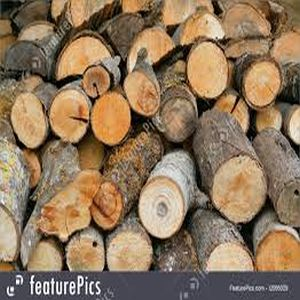log: (208, 150, 268, 223), (136, 176, 183, 239), (186, 40, 234, 100), (47, 85, 91, 141), (89, 90, 131, 147), (9, 90, 50, 147), (242, 55, 284, 108), (52, 30, 116, 64), (254, 226, 300, 273), (103, 228, 153, 270), (224, 3, 274, 44), (159, 94, 198, 145), (178, 10, 228, 47), (124, 70, 161, 117), (66, 230, 106, 273), (90, 179, 121, 233), (205, 240, 254, 272), (25, 239, 65, 274), (274, 175, 300, 225), (253, 102, 285, 138), (81, 64, 112, 99)
